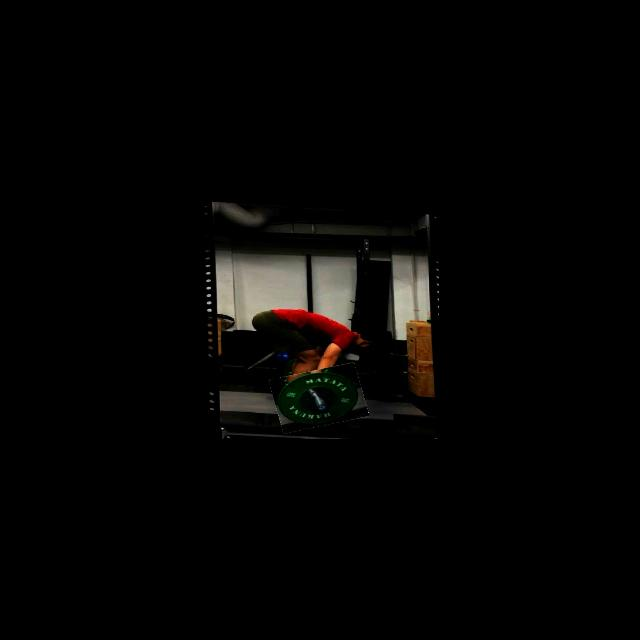barbell: (270, 362, 366, 431)
